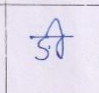i_matra: (49, 18, 69, 59)
